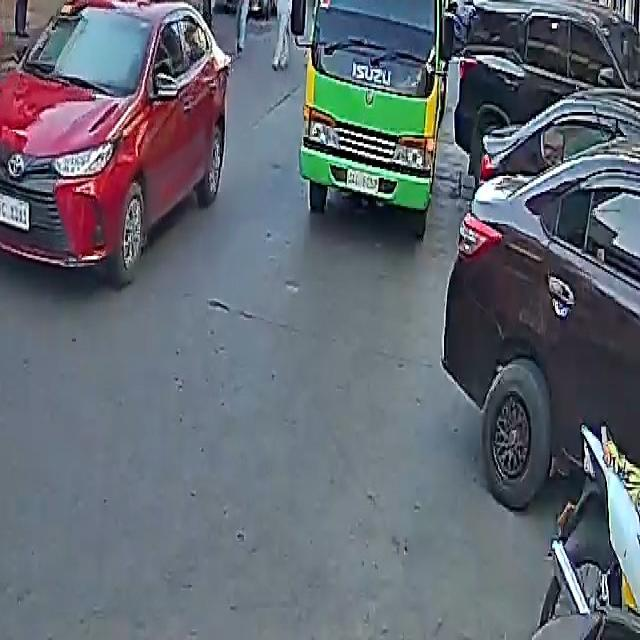car: (443, 56, 640, 532), (0, 0, 235, 286), (447, 0, 639, 187), (65, 0, 217, 21)
